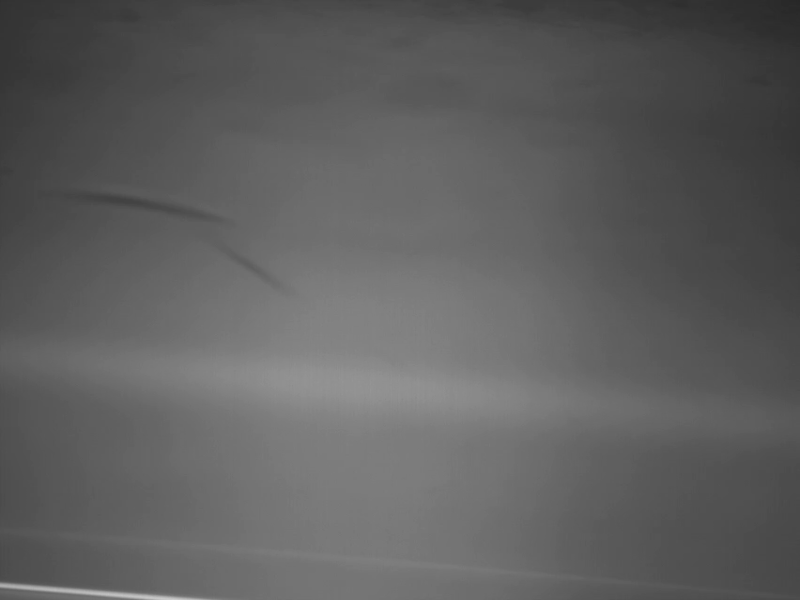bead: (113, 235, 140, 263), (693, 57, 715, 79)
